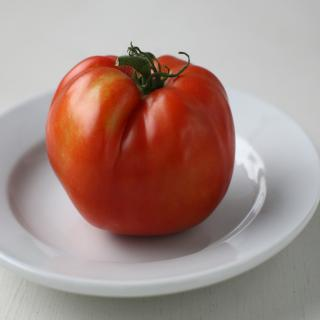tomato: (44, 37, 236, 238)
